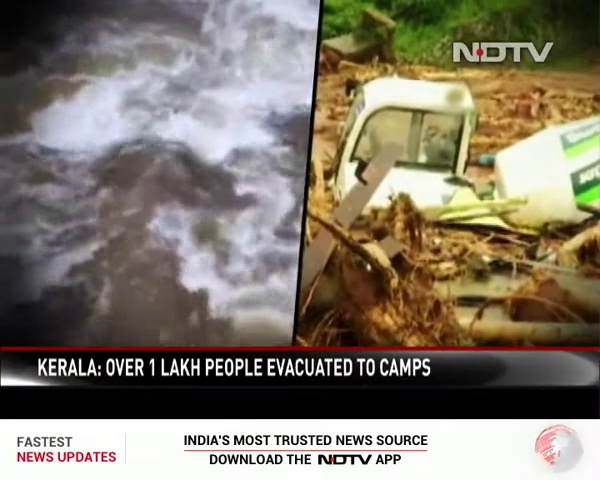house: (327, 18, 407, 67)
vehicle: (339, 93, 598, 225), (449, 289, 598, 351)
